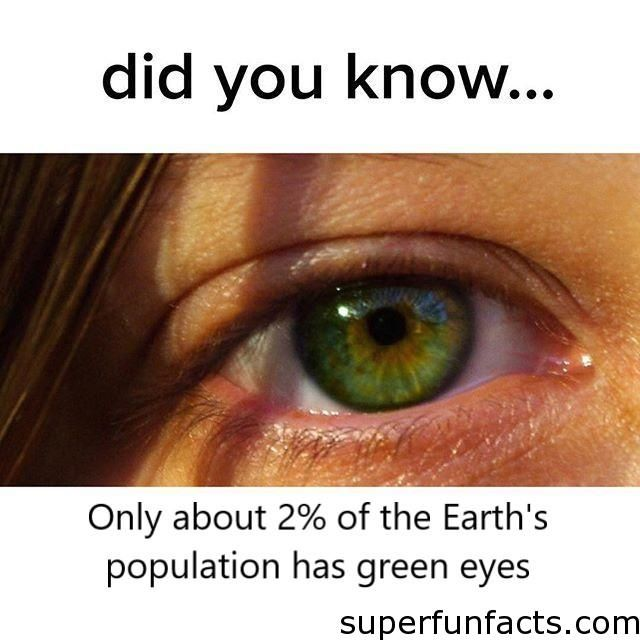iris: (289, 250, 479, 414)
pupil: (361, 305, 409, 346)
